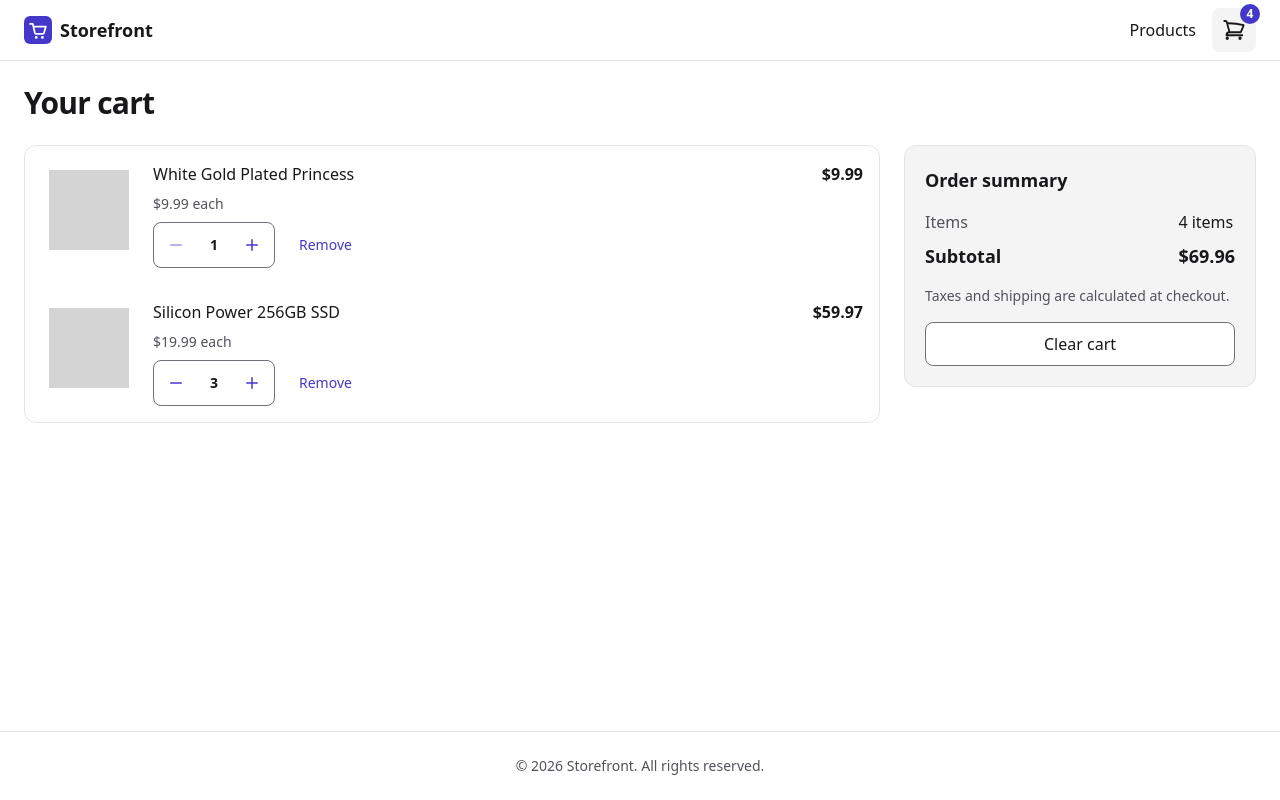
Test: Cart page › updates line totals, subtotal and badge as quantities change
Check: the heading "Your cart" is shown, box [24,82,154,123]
Step 1. Click the button named "Increase quantity of White Gold Plated Princess" → (252, 245), box [230,223,274,267]
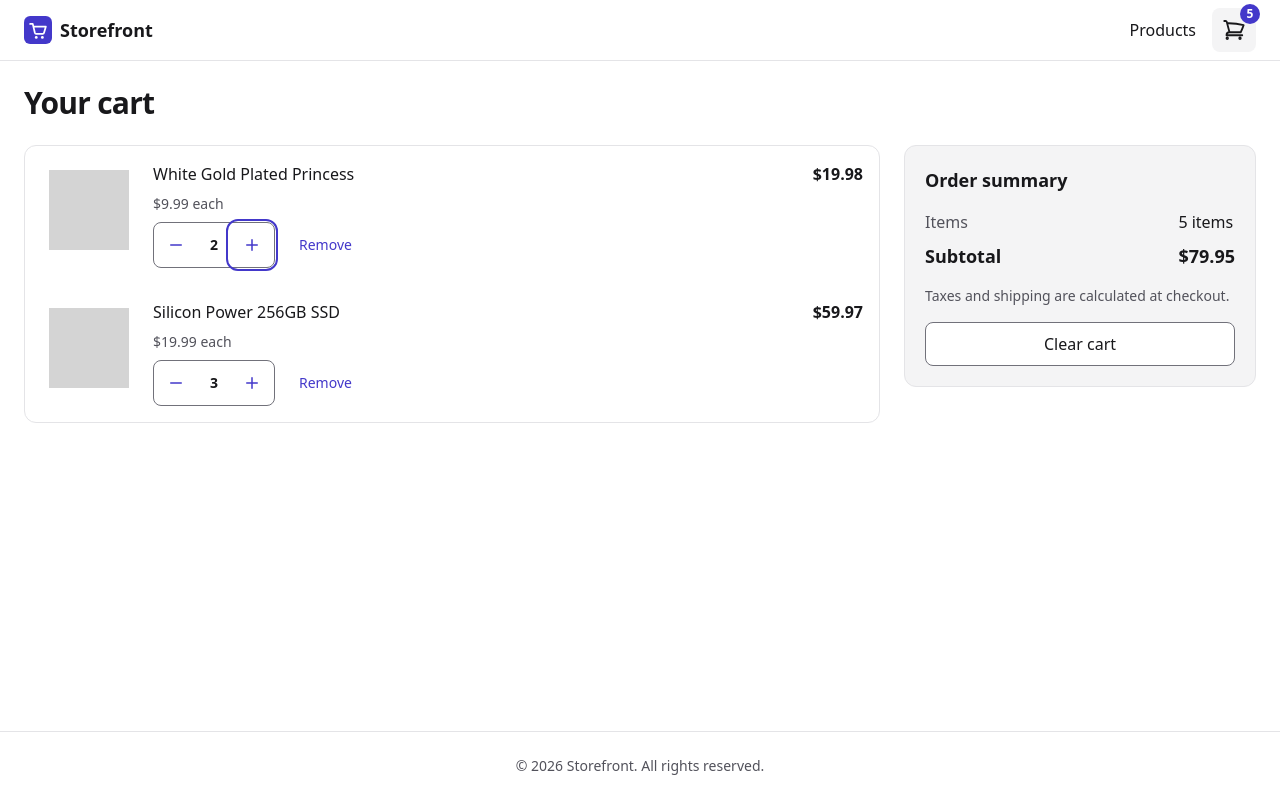
Step 2. Click the button named "Decrease quantity of Silicon Power 256GB SSD" → (176, 383), box [154,361,198,405]
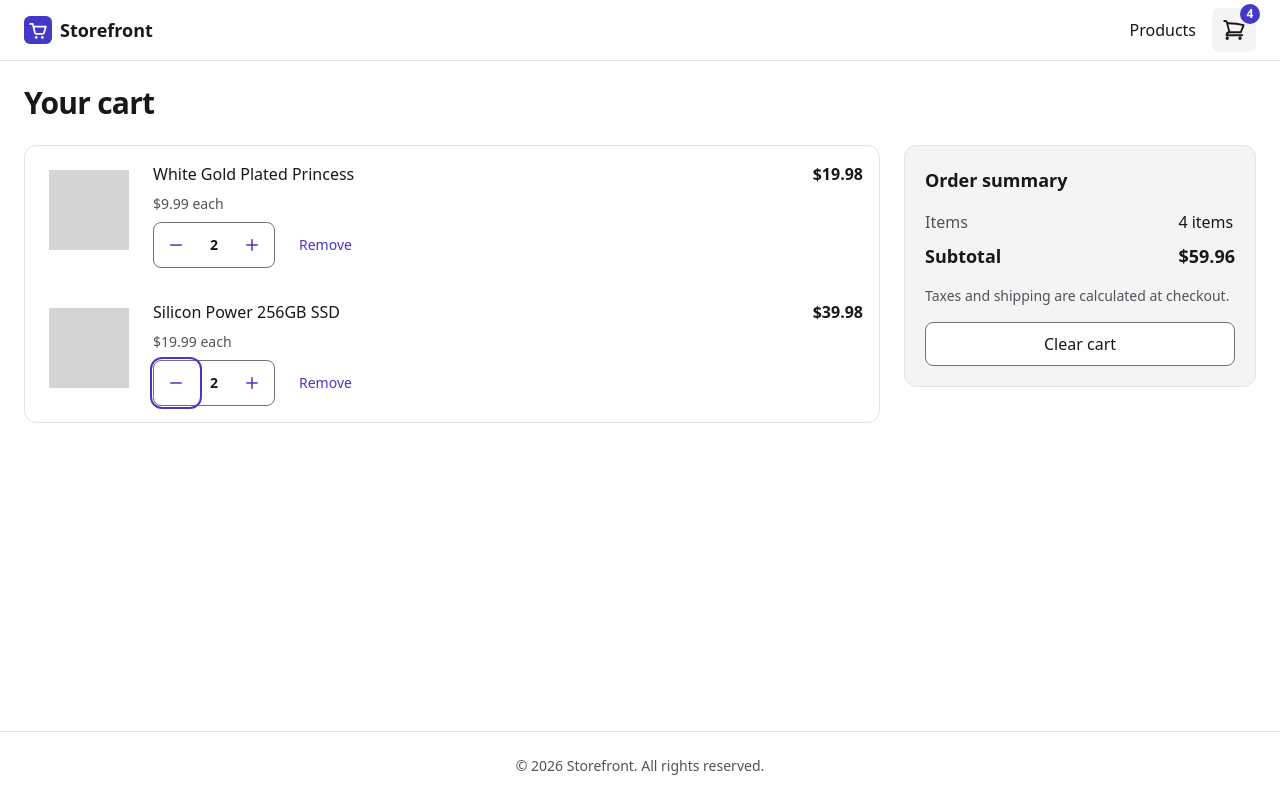
Check: the text with test id "summary-count" reads "4 items", box [1178,211,1233,233]
